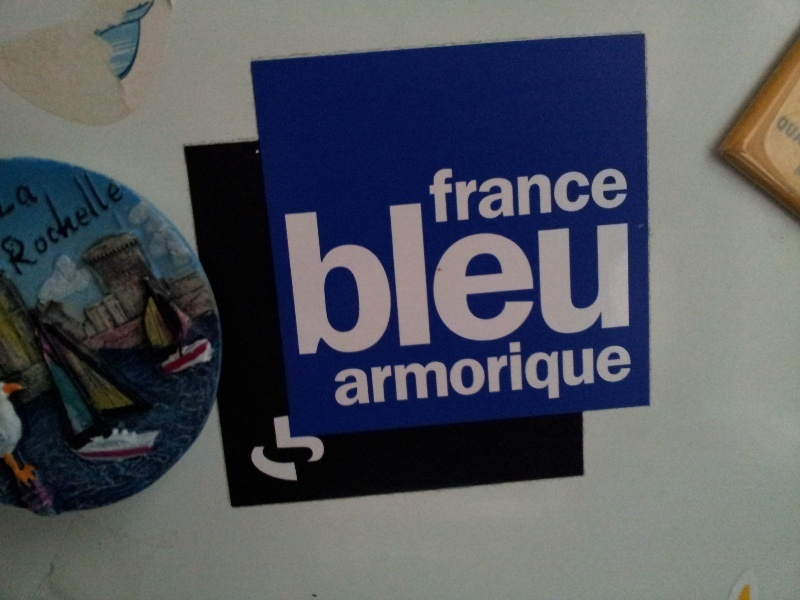text: (289, 188, 304, 360), (305, 188, 320, 360), (321, 188, 336, 360), (337, 188, 352, 360), (353, 188, 368, 360), (369, 188, 384, 360), (385, 188, 400, 360), (401, 188, 416, 360), (417, 188, 432, 360), (433, 188, 448, 360), (449, 188, 464, 360), (465, 188, 480, 360), (481, 188, 496, 360), (497, 188, 512, 360), (513, 188, 528, 360), (529, 188, 544, 360), (545, 188, 560, 360), (561, 188, 576, 360), (577, 188, 592, 360), (593, 188, 608, 360), (609, 188, 624, 360), (625, 188, 640, 360), (275, 188, 288, 360), (113, 152, 129, 281), (17, 152, 32, 281), (33, 152, 48, 281), (49, 152, 64, 281), (65, 152, 80, 281), (81, 152, 96, 281), (97, 152, 112, 281), (2, 152, 16, 281), (337, 327, 352, 415), (353, 327, 368, 415), (369, 327, 384, 415), (385, 327, 400, 415), (401, 327, 416, 415), (417, 327, 432, 415), (433, 327, 448, 415), (449, 327, 464, 415), (465, 327, 480, 415), (481, 327, 496, 415), (497, 327, 512, 415), (513, 327, 528, 415), (529, 327, 544, 415), (545, 327, 560, 415), (561, 327, 576, 415), (577, 327, 592, 415), (593, 327, 608, 415), (609, 327, 624, 415), (433, 161, 448, 225), (449, 161, 464, 225), (465, 161, 480, 225), (481, 161, 496, 225), (497, 161, 512, 225), (513, 161, 528, 225), (529, 161, 544, 225), (545, 161, 560, 225), (561, 161, 576, 225), (577, 161, 592, 225), (593, 161, 608, 225), (609, 161, 624, 225), (625, 327, 633, 415), (17, 178, 32, 213), (641, 188, 644, 360), (785, 114, 800, 140), (426, 161, 432, 225), (625, 161, 631, 225), (332, 327, 336, 415), (33, 178, 40, 213), (13, 178, 16, 213), (783, 114, 784, 140)
